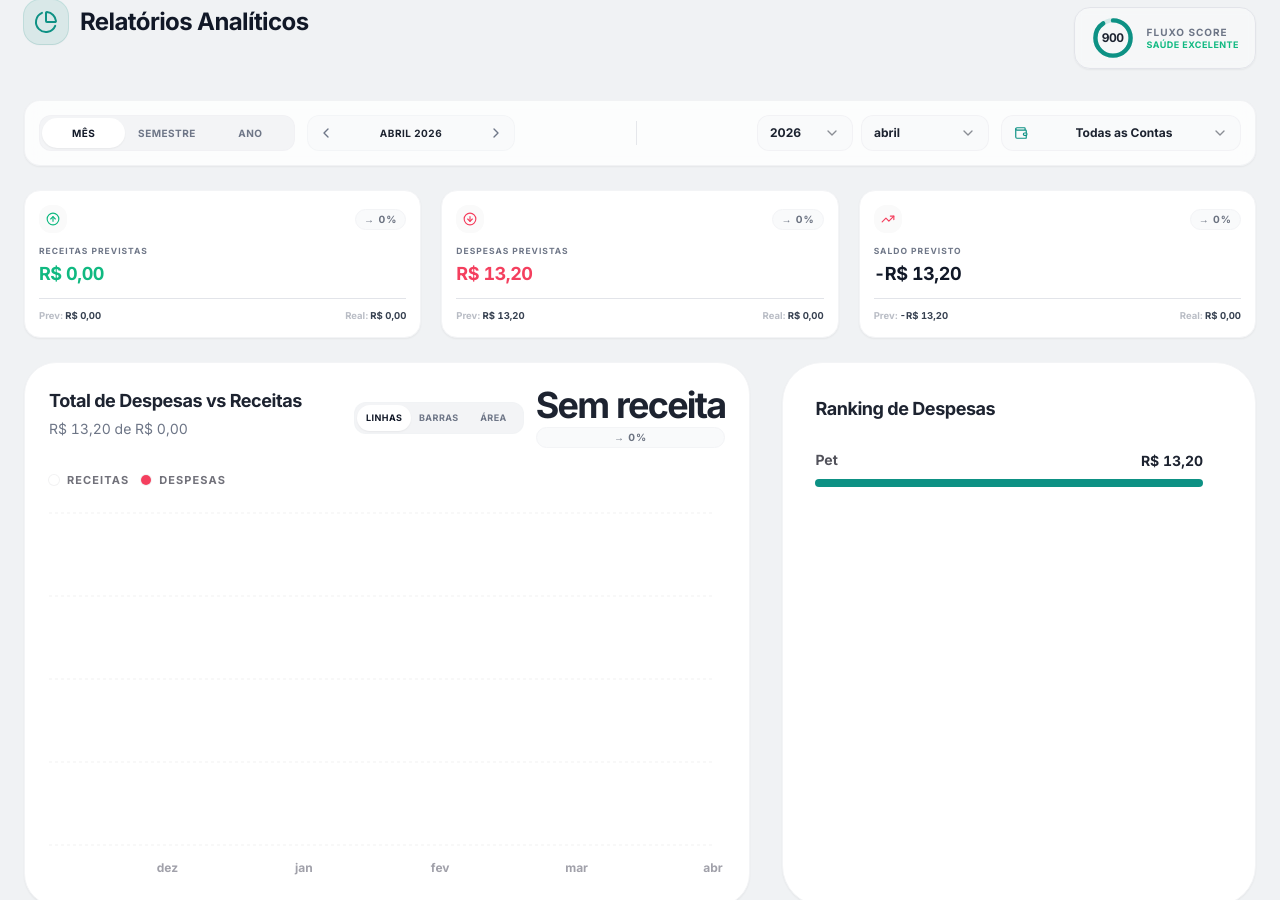
Test case: ReportsDashboard - categoria de acordo › mantem o ranking funcional no mobile
Click the button with test id "category-ranking-bar-": (1172, 460) x1=807 y1=443 x2=1211 y2=495
(page scrolled)
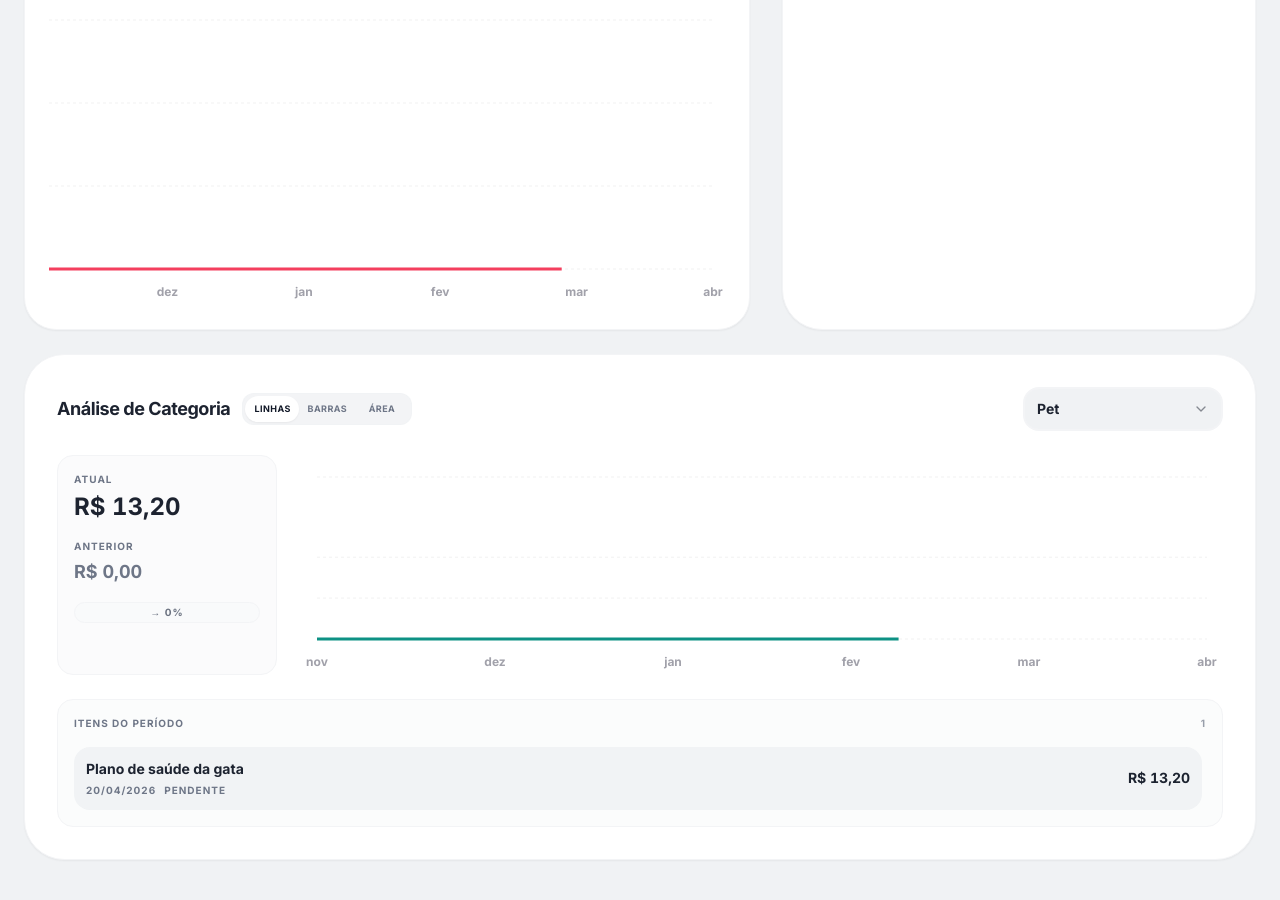
Expected: the text "Plano de saúde da gata" is shown, x1=86 y1=758 x2=244 y2=778
